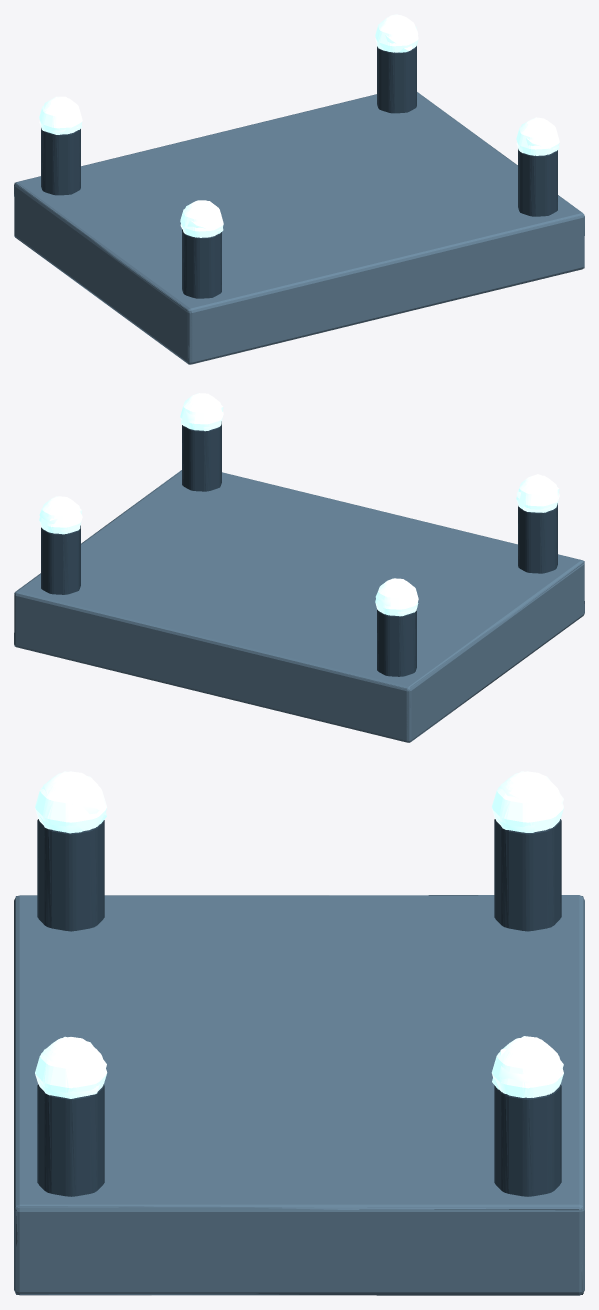
The model's file is SM_Rheinufer_Ponton.fbx.
The picture shows the model from 3 angles, top to bottom: view 1: azimuth 30°, elevation 25°; view 2: azimuth 150°, elevation 25°; view 3: azimuth 270°, elevation 25°; orthographic projection. The views are drawn at different scales.
Visible parts, largest first — view 1: LOD0_SM_Rheinufer_Ponton, LOD1_SM_Rheinufer_Ponton, LOD2_SM_Rheinufer_Ponton, LOD3_SM_Rheinufer_Ponton; view 2: LOD0_SM_Rheinufer_Ponton, LOD1_SM_Rheinufer_Ponton, LOD2_SM_Rheinufer_Ponton, LOD3_SM_Rheinufer_Ponton; view 3: LOD0_SM_Rheinufer_Ponton, LOD1_SM_Rheinufer_Ponton, LOD2_SM_Rheinufer_Ponton, LOD3_SM_Rheinufer_Ponton.
Boxes of the visible parts, x1,y1,x2,y2 form: LOD0_SM_Rheinufer_Ponton: [14, 15, 584, 364]; LOD1_SM_Rheinufer_Ponton: [14, 17, 584, 363]; LOD2_SM_Rheinufer_Ponton: [14, 15, 584, 364]; LOD3_SM_Rheinufer_Ponton: [14, 14, 584, 364]; LOD0_SM_Rheinufer_Ponton: [14, 393, 584, 742]; LOD1_SM_Rheinufer_Ponton: [14, 393, 584, 742]; LOD2_SM_Rheinufer_Ponton: [14, 393, 584, 742]; LOD3_SM_Rheinufer_Ponton: [39, 396, 584, 742]; LOD0_SM_Rheinufer_Ponton: [14, 771, 584, 1295]; LOD1_SM_Rheinufer_Ponton: [14, 771, 584, 1295]; LOD2_SM_Rheinufer_Ponton: [15, 771, 583, 1295]; LOD3_SM_Rheinufer_Ponton: [16, 771, 582, 1294].
Bounding box in the file's own units: 2.6 × 0.905 × 2.
